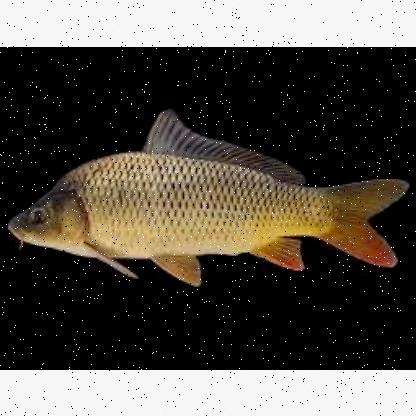ikan-mas: (3, 135, 411, 273)
